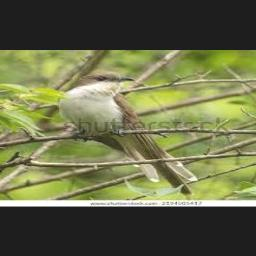Cuckoo: (60, 71, 199, 194)
